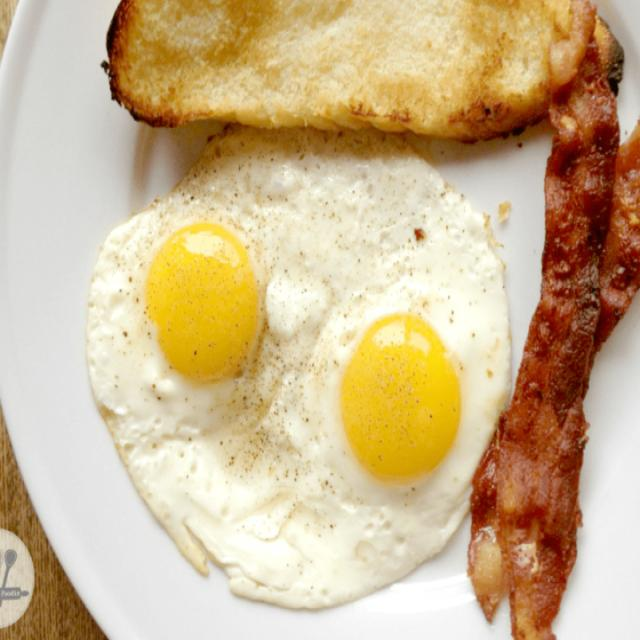Bacon: (469, 18, 640, 638)
Bread: (105, 0, 595, 141)
Egg: (86, 130, 510, 608)
